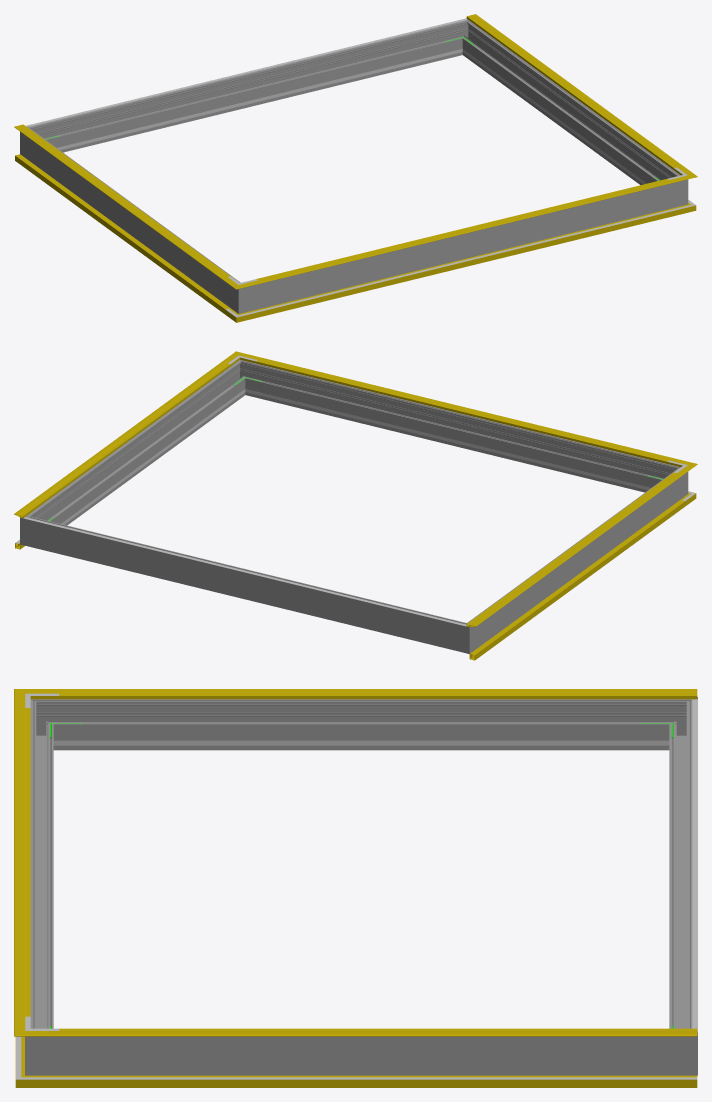
The picture shows the model from 3 angles, top to bottom: view 1: azimuth 30°, elevation 25°; view 2: azimuth 150°, elevation 25°; view 3: azimuth 270°, elevation 25°; orthographic projection. The views are drawn at different scales.
Visible parts, largest first — view 1: 3DGeom-276, 3DGeom-298, 3DGeom-297, 3DGeom-268, 3DGeom-11, 3DGeom-145, 3DGeom-141, 3DGeom-6, 3DGeom-147, 3DGeom-244, 3DGeom-220, 3DGeom-20 (+8 smaller); view 2: 3DGeom-298, 3DGeom-276, 3DGeom-297, 3DGeom-268, 3DGeom-141, 3DGeom-145, 3DGeom-6, 3DGeom-147, 3DGeom-239, 3DGeom-220, 3DGeom-158, 3DGeom-278 (+6 smaller); view 3: 3DGeom-268, 3DGeom-297, 3DGeom-16, 3DGeom-276, 3DGeom-298, 3DGeom-147, 3DGeom-145, 3DGeom-141, 3DGeom-232, 3DGeom-220, 3DGeom-18, 3DGeom-152 (+6 smaller).
Boxes of the visible parts, bbox=[...] form: 3DGeom-276: bbox=[41, 23, 459, 152]; 3DGeom-298: bbox=[258, 184, 668, 309]; 3DGeom-297: bbox=[464, 26, 673, 185]; 3DGeom-268: bbox=[31, 134, 233, 305]; 3DGeom-11: bbox=[253, 208, 676, 317]; 3DGeom-145: bbox=[466, 14, 686, 172]; 3DGeom-141: bbox=[252, 178, 678, 284]; 3DGeom-6: bbox=[15, 154, 230, 314]; 3DGeom-147: bbox=[14, 125, 230, 281]; 3DGeom-244: bbox=[64, 53, 444, 149]; 3DGeom-220: bbox=[26, 18, 467, 127]; 3DGeom-20: bbox=[254, 209, 676, 312]; 3DGeom-298: bbox=[248, 363, 666, 492]; 3DGeom-276: bbox=[39, 519, 453, 649]; 3DGeom-297: bbox=[34, 366, 243, 525]; 3DGeom-268: bbox=[474, 474, 676, 645]; 3DGeom-141: bbox=[250, 356, 677, 465]; 3DGeom-145: bbox=[14, 359, 234, 518]; 3DGeom-6: bbox=[469, 500, 685, 660]; 3DGeom-147: bbox=[466, 470, 686, 627]; 3DGeom-239: bbox=[264, 393, 644, 488]; 3DGeom-220: bbox=[23, 517, 466, 626]; 3DGeom-158: bbox=[256, 360, 668, 461]; 3DGeom-278: bbox=[450, 617, 480, 653]; 3DGeom-268: bbox=[59, 699, 663, 750]; 3DGeom-297: bbox=[59, 1036, 663, 1075]; 3DGeom-16: bbox=[50, 1075, 697, 1087]; 3DGeom-276: bbox=[669, 711, 692, 1028]; 3DGeom-298: bbox=[30, 711, 53, 1028]; 3DGeom-147: bbox=[48, 689, 697, 699]; 3DGeom-145: bbox=[48, 1031, 697, 1036]; 3DGeom-141: bbox=[14, 703, 25, 1021]; 3DGeom-232: bbox=[86, 740, 636, 745]; 3DGeom-220: bbox=[692, 699, 697, 1032]; 3DGeom-18: bbox=[50, 1077, 697, 1079]; 3DGeom-152: bbox=[59, 1028, 697, 1030].
Bounding box in the file's own units: 3.66 × 0.2596 × 3.05.
